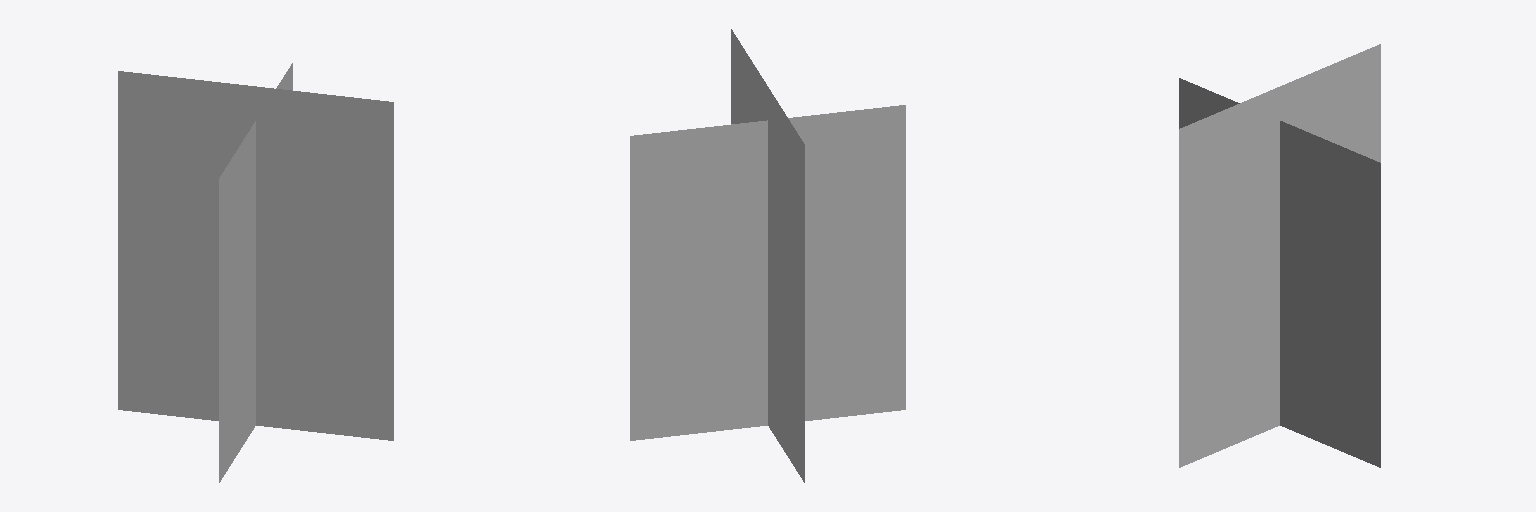
The model's file is tree-large.obj.
3 renders of one model, left to right at view 1: azimuth 30°, elevation 25°; view 2: azimuth 150°, elevation 25°; view 3: azimuth 270°, elevation 25°, orthographic.
Visible parts, largest first — view 1: tree-large; view 2: tree-large; view 3: tree-large.
Part boxes in pixels (x1,y1,x2,y2): tree-large: (118,63,393,482); tree-large: (630,29,905,482); tree-large: (1179,44,1380,467).
Size of the model in its own units: 0.9192 by 1.7 by 0.9192.